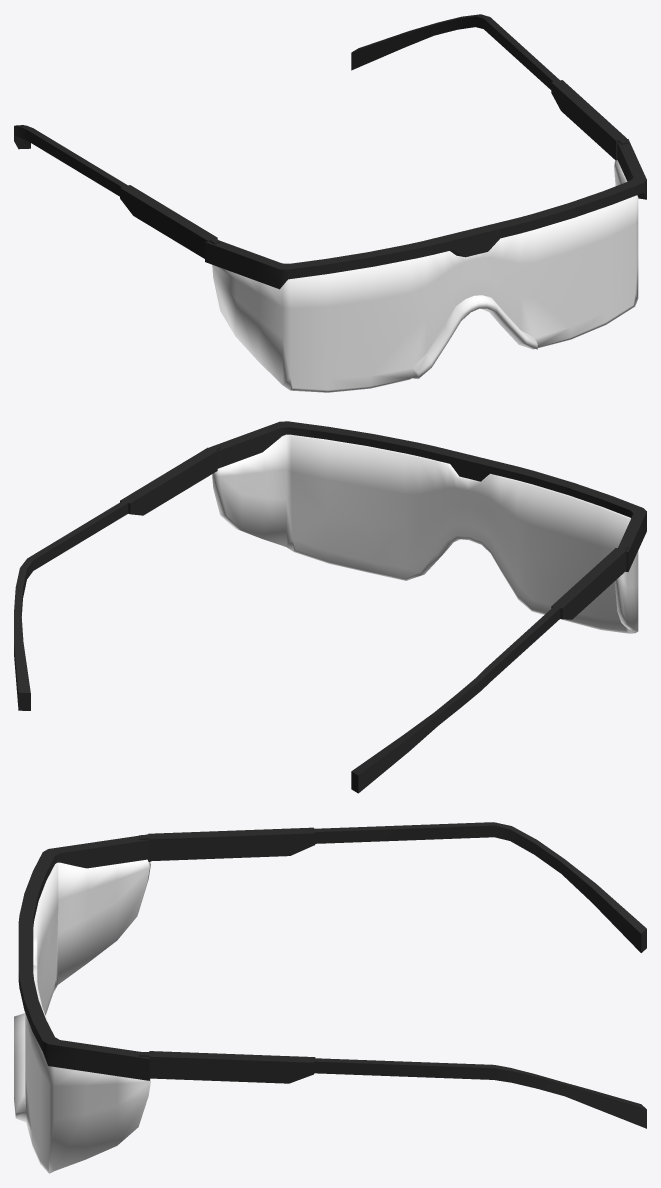
The model's file is safety_goggles.fbx.
3 renders of one model, top to bottom at view 1: azimuth 30°, elevation 25°; view 2: azimuth 150°, elevation 25°; view 3: azimuth 270°, elevation 25°, orthographic. The views are drawn at different scales.
Visible parts, largest first — view 1: safety_goggles_transparent, safety_goggles; view 2: safety_goggles_transparent, safety_goggles; view 3: safety_goggles, safety_goggles_transparent.
Boxes of the visible parts, left/top/right/bottom form: safety_goggles_transparent: left=212, top=160, right=638, bottom=392; safety_goggles: left=14, top=14, right=646, bottom=289; safety_goggles_transparent: left=212, top=434, right=638, bottom=633; safety_goggles: left=14, top=421, right=646, bottom=793; safety_goggles: left=18, top=822, right=646, bottom=1128; safety_goggles_transparent: left=14, top=859, right=150, bottom=1173.
Bounding box in the file's own units: 18.76 × 5.25 × 20.39.
2 materials, 2 textured.
